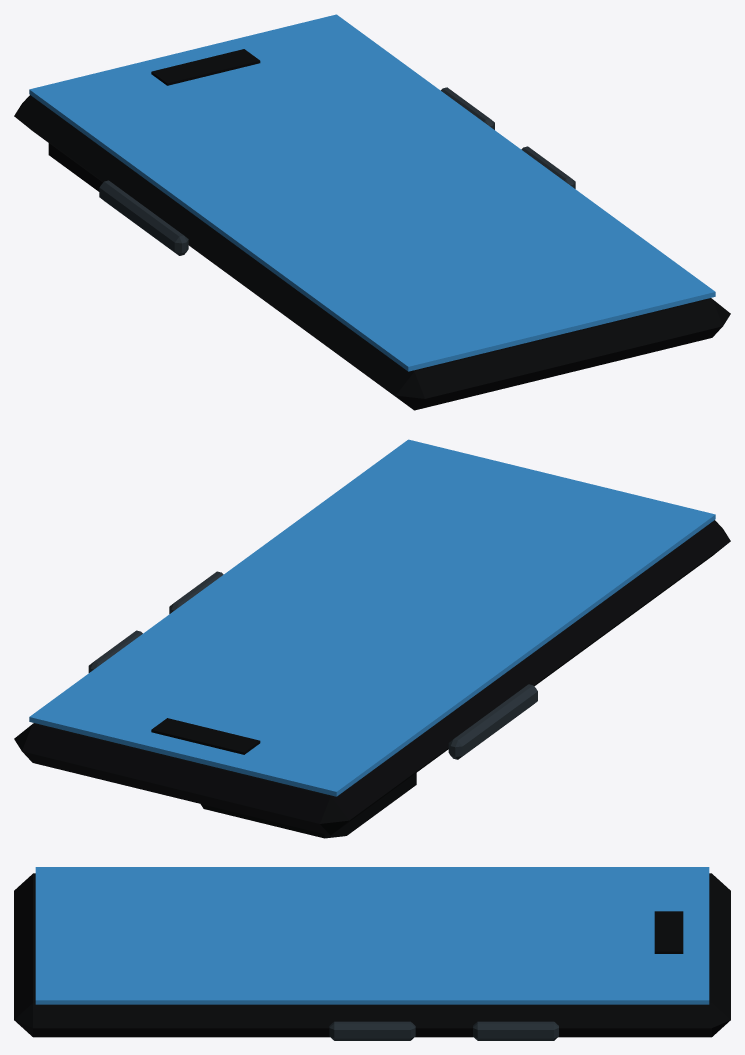
Rendered from ACCESSORY_01_Smartphone.obj.
3 renders of one model, top to bottom at view 1: azimuth 30°, elevation 25°; view 2: azimuth 150°, elevation 25°; view 3: azimuth 270°, elevation 25°, orthographic. The views are drawn at different scales.
Visible parts, largest first — view 1: ACCESSORY_01_Smartphone_Screen, ACCESSORY_01_Smartphone_Body, ACCESSORY_01_Smartphone_Buttons, ACCESSORY_01_Smartphone_Notch, ACCESSORY_01_Smartphone_Camera_Bump; view 2: ACCESSORY_01_Smartphone_Screen, ACCESSORY_01_Smartphone_Body, ACCESSORY_01_Smartphone_Buttons, ACCESSORY_01_Smartphone_Notch, ACCESSORY_01_Smartphone_Camera_Bump; view 3: ACCESSORY_01_Smartphone_Screen, ACCESSORY_01_Smartphone_Body, ACCESSORY_01_Smartphone_Buttons, ACCESSORY_01_Smartphone_Notch.
Part boxes in pixels (bbox=[...]): ACCESSORY_01_Smartphone_Screen: bbox=[29, 14, 715, 371]; ACCESSORY_01_Smartphone_Body: bbox=[14, 95, 730, 410]; ACCESSORY_01_Smartphone_Buttons: bbox=[99, 87, 575, 255]; ACCESSORY_01_Smartphone_Notch: bbox=[151, 49, 260, 85]; ACCESSORY_01_Smartphone_Camera_Bump: bbox=[48, 143, 102, 191]; ACCESSORY_01_Smartphone_Screen: bbox=[29, 439, 715, 796]; ACCESSORY_01_Smartphone_Body: bbox=[14, 520, 730, 835]; ACCESSORY_01_Smartphone_Buttons: bbox=[88, 571, 537, 759]; ACCESSORY_01_Smartphone_Notch: bbox=[151, 718, 260, 754]; ACCESSORY_01_Smartphone_Camera_Bump: bbox=[200, 773, 416, 838]; ACCESSORY_01_Smartphone_Screen: bbox=[35, 867, 709, 1004]; ACCESSORY_01_Smartphone_Body: bbox=[14, 873, 730, 1037]; ACCESSORY_01_Smartphone_Buttons: bbox=[329, 1021, 558, 1040]; ACCESSORY_01_Smartphone_Notch: bbox=[654, 911, 683, 953].
Bounding box in the file's own units: 0.078 × 0.0131 × 0.15.
